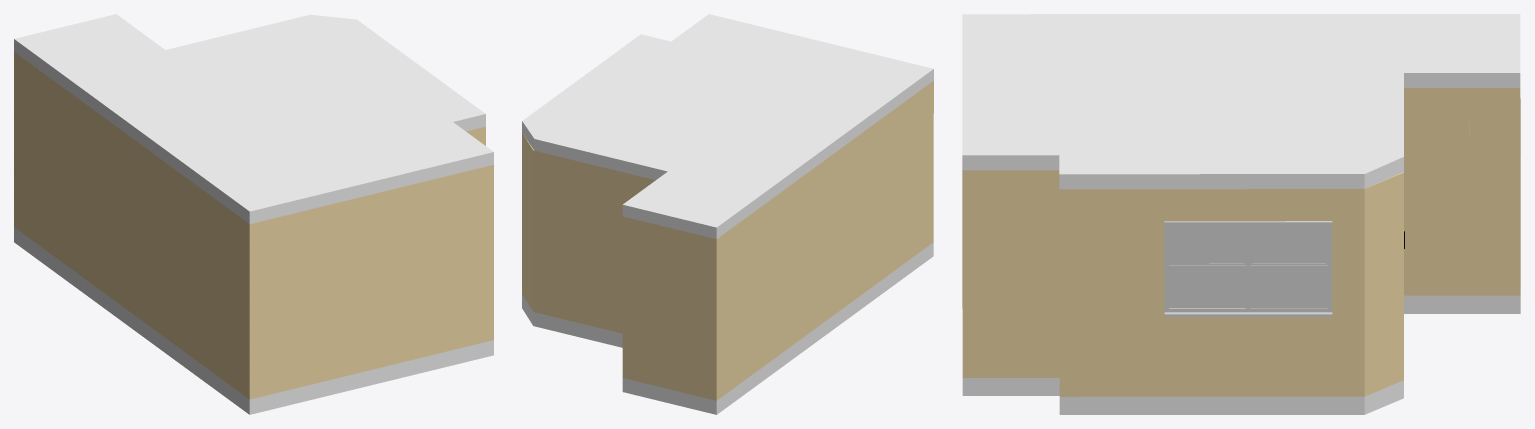
File: FloorPlan13_physics.fbx
The picture shows the model from 3 angles, left to right: view 1: azimuth 30°, elevation 25°; view 2: azimuth 150°, elevation 25°; view 3: azimuth 270°, elevation 25°; orthographic projection. The views are drawn at different scales.
Parts seen in each view (by area): view 1: Cube.650, Cube.686, Cube.721; view 2: Cube.650, Cube.686, Cube.721; view 3: Cube.650, Cube.686, WindowPane, Cube.721, WindowFrame.
Boxes of the visible parts, left/top/right/bottom form: Cube.650: left=14, top=52, right=493, bottom=399; Cube.686: left=14, top=14, right=493, bottom=223; Cube.721: left=14, top=227, right=493, bottom=414; Cube.650: left=522, top=80, right=933, bottom=400; Cube.686: left=522, top=14, right=933, bottom=239; Cube.721: left=522, top=242, right=933, bottom=414; Cube.650: left=962, top=88, right=1520, bottom=396; Cube.686: left=962, top=14, right=1520, bottom=189; WindowPane: left=1171, top=227, right=1325, bottom=306; Cube.721: left=962, top=295, right=1520, bottom=414; WindowFrame: left=1164, top=221, right=1332, bottom=317.
Bounding box in the file's own units: 497 × 343 × 719.
